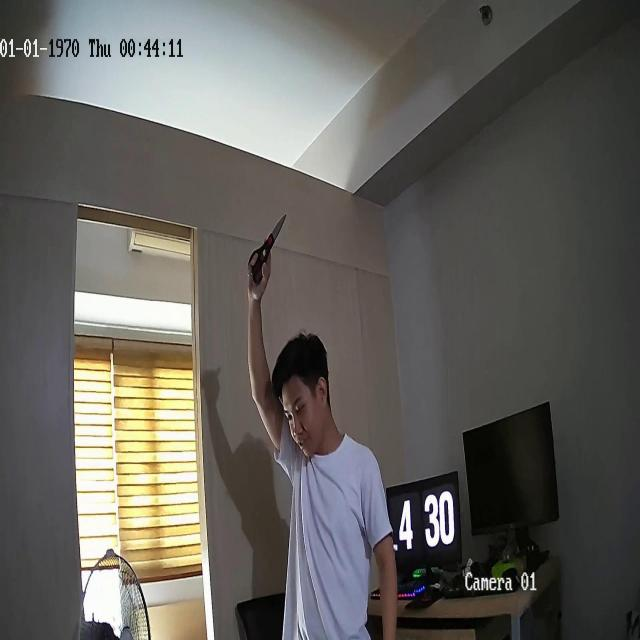scissor: (249, 215, 286, 285)
